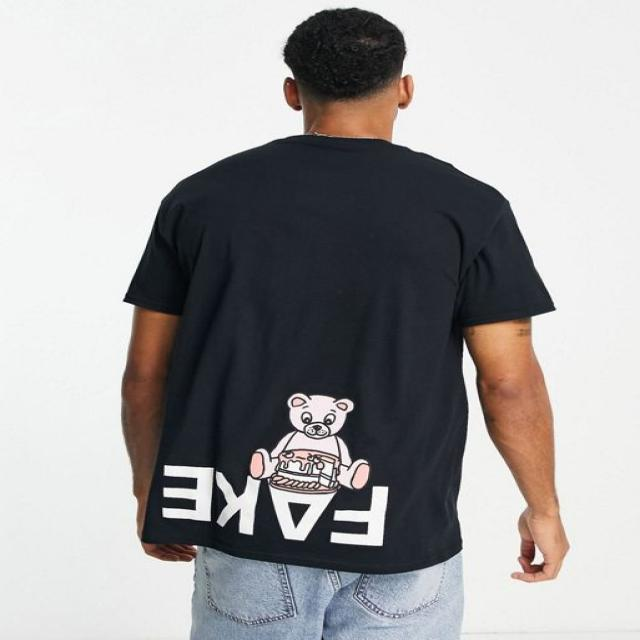tshirt: (121, 132, 553, 572)
